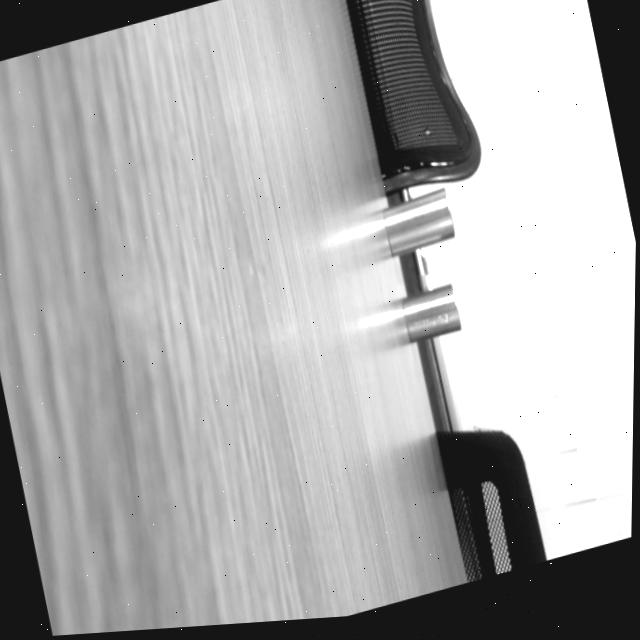Co_Lon: (376, 188, 459, 257)
Co_Nho: (397, 283, 463, 343)
